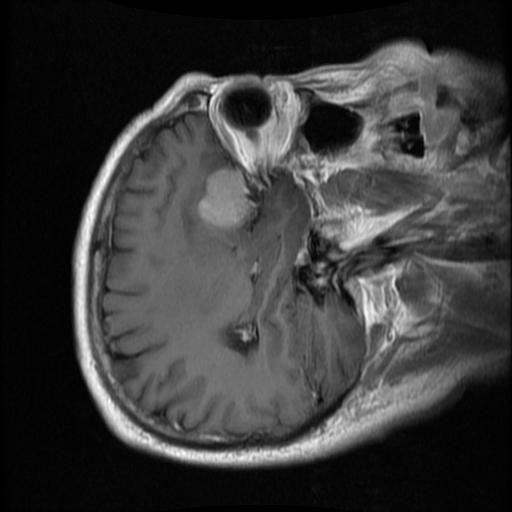meningioma: (196, 166, 256, 229)
